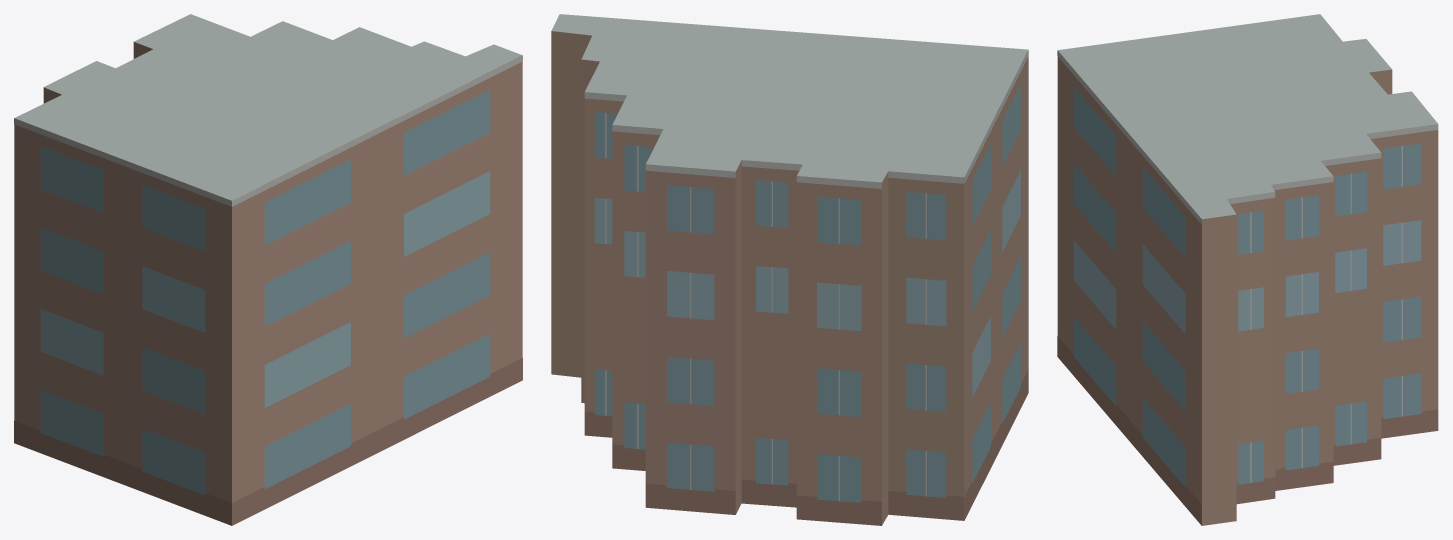
File: survey-upis-32699242.glb
3 renders of one model, left to right at view 1: azimuth 30°, elevation 25°; view 2: azimuth 150°, elevation 25°; view 3: azimuth 270°, elevation 25°, orthographic. The views are drawn at different scales.
Parts seen in each view (by area): view 1: survey-upis-32699242.tmp; view 2: survey-upis-32699242.tmp; view 3: survey-upis-32699242.tmp.
Part boxes in pixels (x1=…): survey-upis-32699242.tmp: x1=14, y1=14, x2=522, y2=525; survey-upis-32699242.tmp: x1=551, y1=14, x2=1028, y2=525; survey-upis-32699242.tmp: x1=1057, y1=14, x2=1438, y2=525.
Size of the model in its own units: 18.74 by 13.05 by 14.7.
